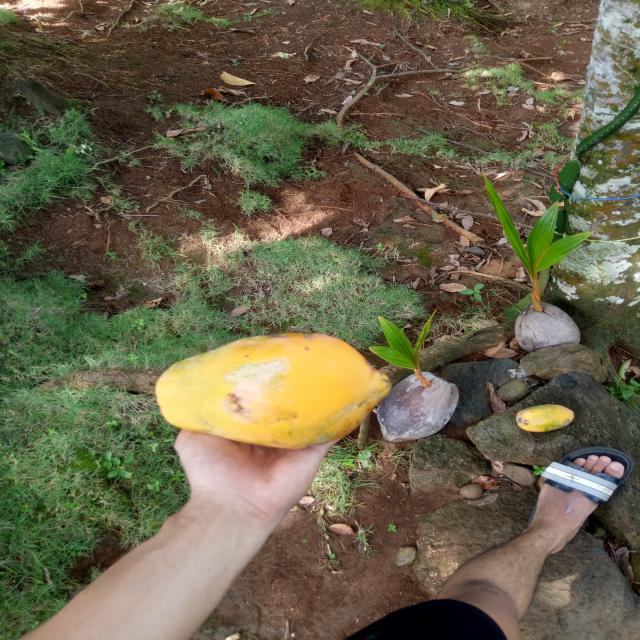Pepaya rippen: (152, 327, 392, 451), (504, 407, 583, 436)
